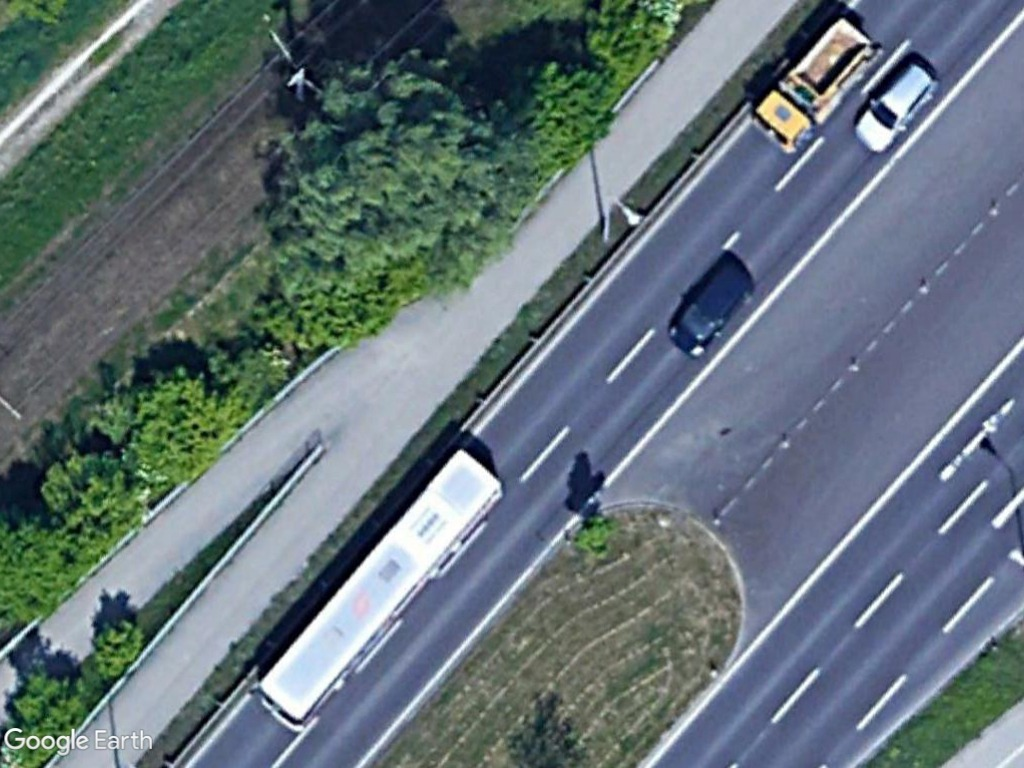bus: (253, 444, 507, 732)
car: (666, 252, 756, 359), (850, 55, 940, 154)
other: (741, 15, 872, 154)
